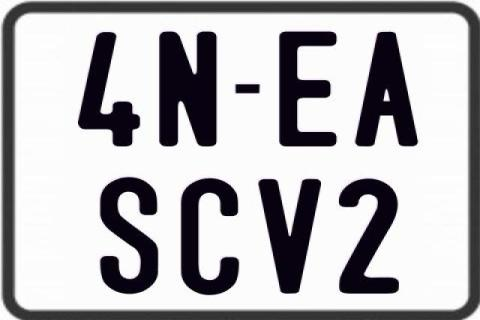0: (77, 30, 145, 146), (338, 176, 398, 295)
A: (353, 30, 420, 146)
C: (182, 178, 242, 298)
E: (277, 30, 338, 146)
N: (159, 31, 223, 146)
S: (100, 174, 159, 292)
V: (255, 178, 322, 294)
